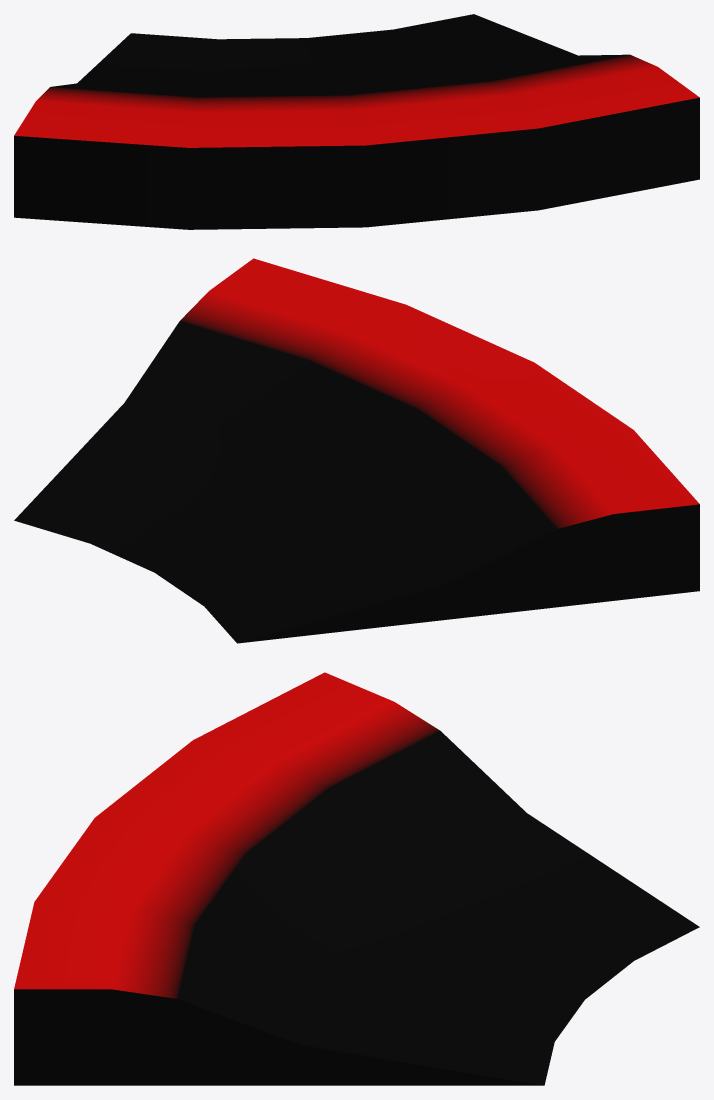
Rendered from PlatformArchDeclineOut_45Deg.fbx.
3 renders of one model, top to bottom at view 1: azimuth 30°, elevation 25°; view 2: azimuth 150°, elevation 25°; view 3: azimuth 270°, elevation 25°, orthographic. The views are drawn at different scales.
Parts seen in each view (by area): view 1: PlatformArchDeclineOut_45Deg; view 2: PlatformArchDeclineOut_45Deg; view 3: PlatformArchDeclineOut_45Deg.
Boxes of the visible parts, bbox=[...] form: PlatformArchDeclineOut_45Deg: bbox=[14, 14, 699, 229]; PlatformArchDeclineOut_45Deg: bbox=[14, 258, 699, 643]; PlatformArchDeclineOut_45Deg: bbox=[14, 672, 699, 1085].
Bounding box in the file's own units: 7.07 × 1 × 6.46.
